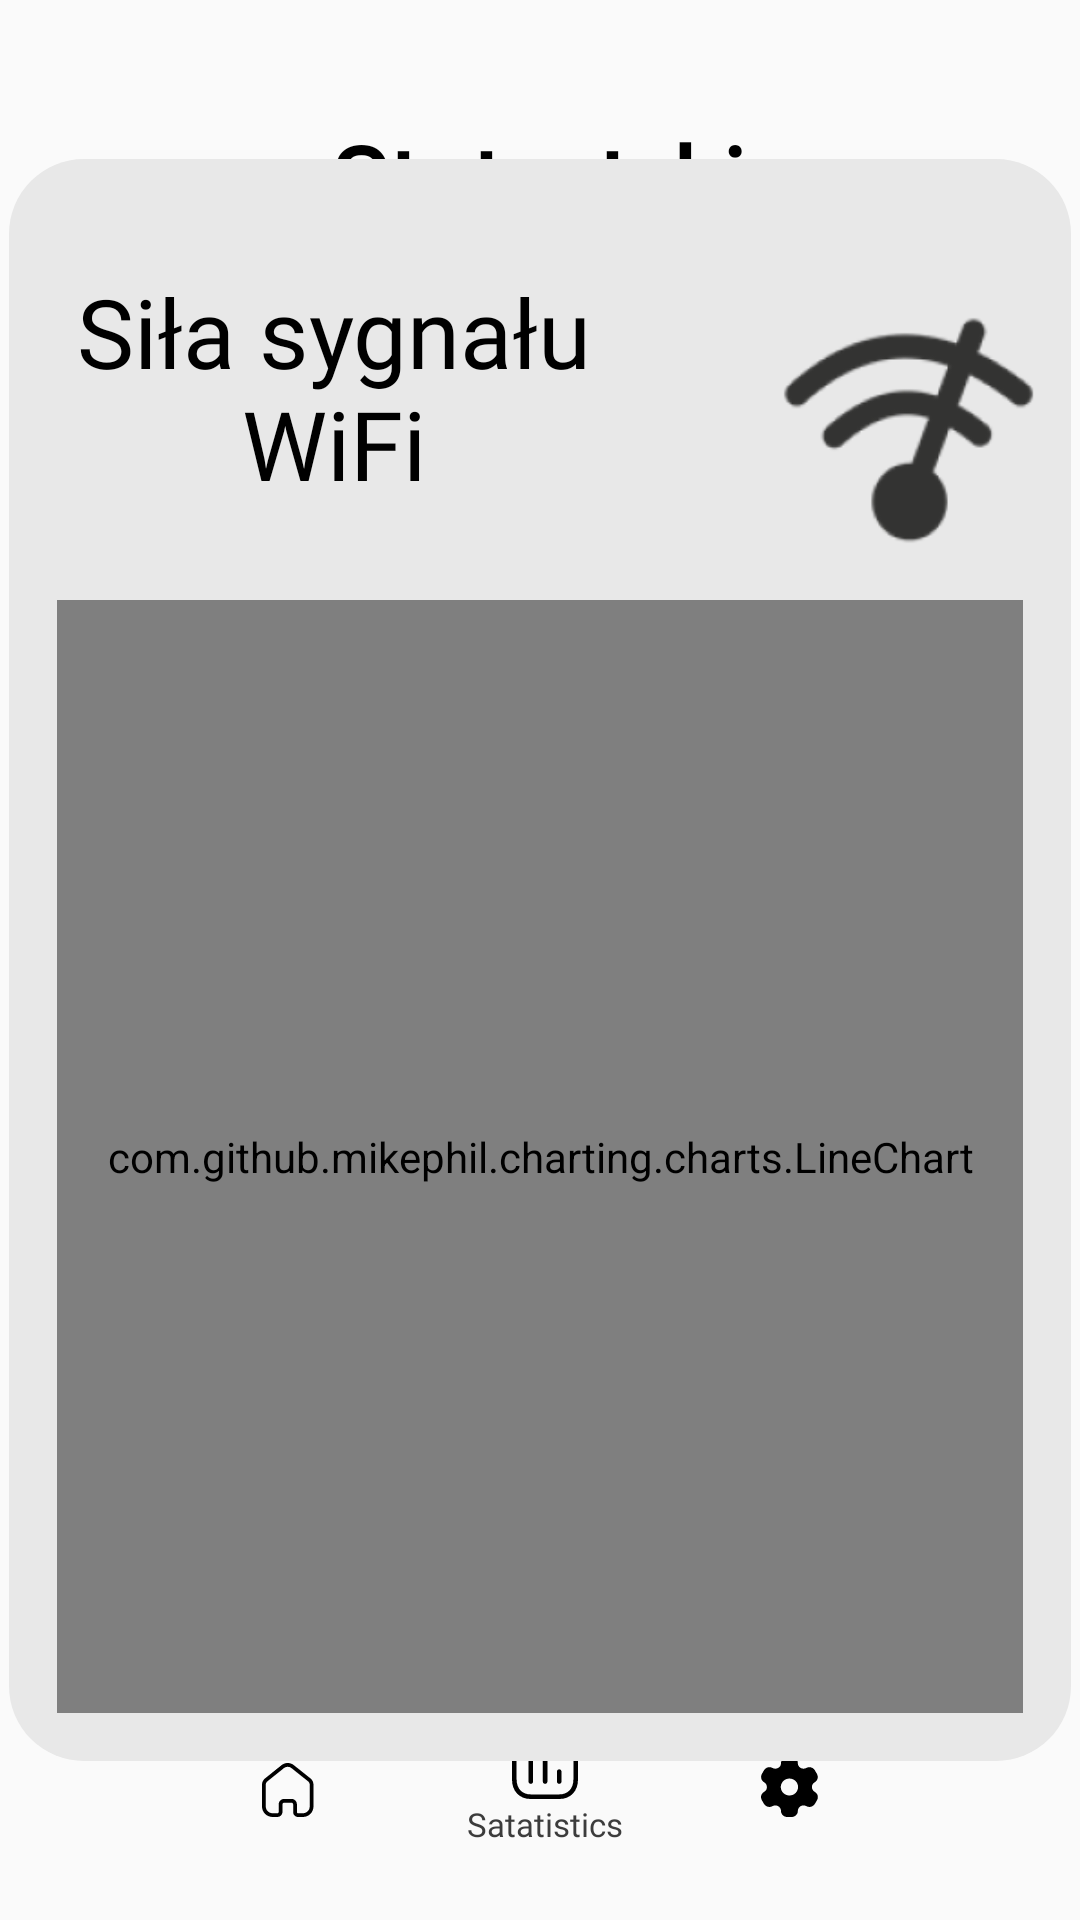

Icon click points for this 1080 x 1920 phone screenshot, format point (x, y):
home: point (288, 1790)
settings: point (789, 1789)
wifianalyzer: point (908, 430)
